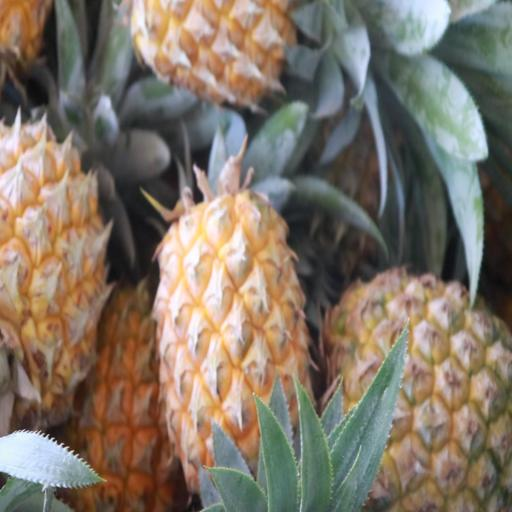Pineapple - v8 v1: (150, 191, 301, 500), (322, 271, 512, 510), (0, 124, 110, 402), (67, 281, 181, 512)
